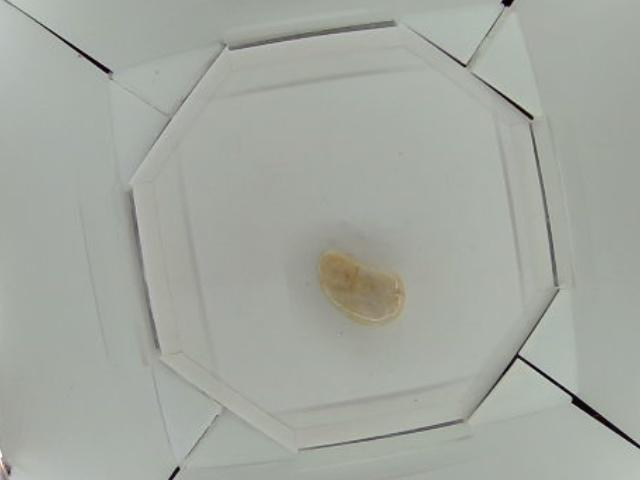Pebble: (321, 250, 410, 326)
